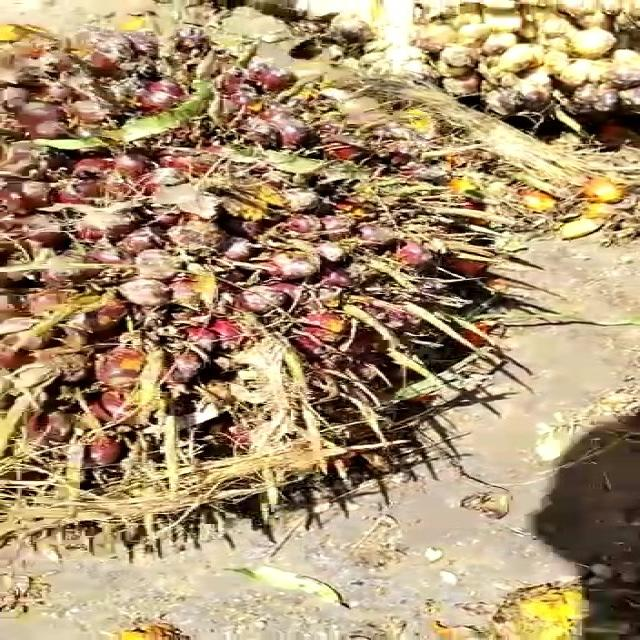palm oil: (0, 12, 507, 545)
